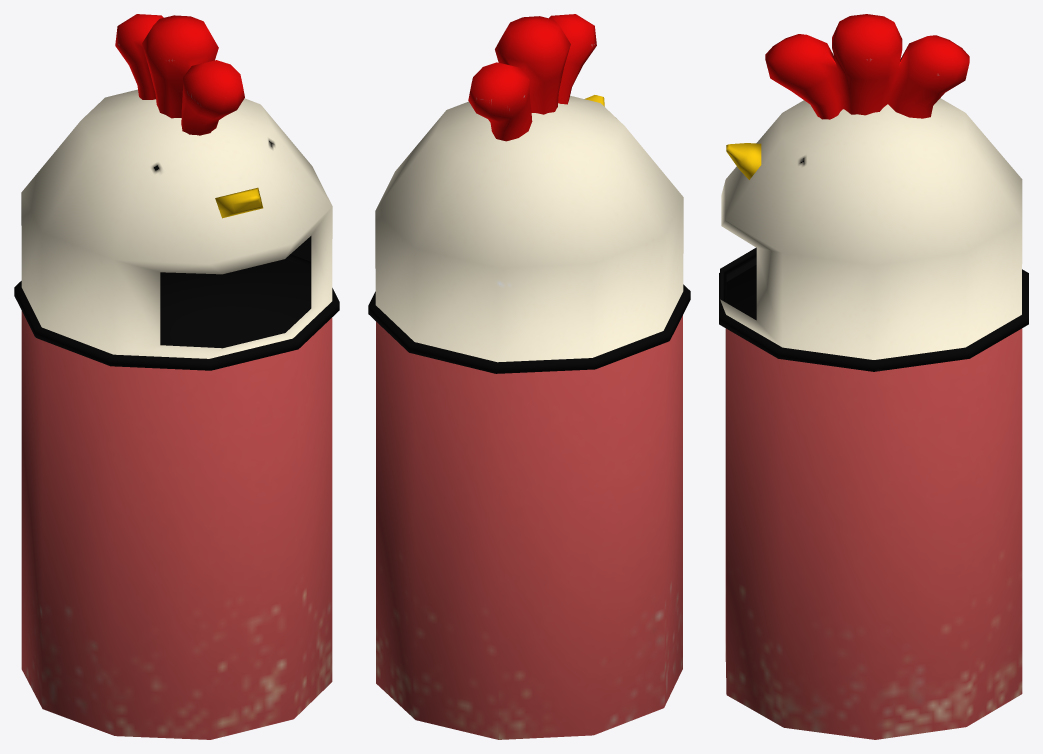
The model's file is restaurant_garbage.FBX.
3 views of the same model, side by side, from view 1: azimuth 30°, elevation 25°; view 2: azimuth 150°, elevation 25°; view 3: azimuth 270°, elevation 25° (orthographic).
Parts seen in each view (by area): view 1: Sphere001; view 2: Sphere001; view 3: Sphere001.
Boxes of the visible parts, x1,y1,x2,y2 form: Sphere001: (14, 14, 339, 739); Sphere001: (368, 14, 690, 739); Sphere001: (719, 14, 1028, 739).
Bounding box in the file's own units: 52.56 × 117 × 49.99.
